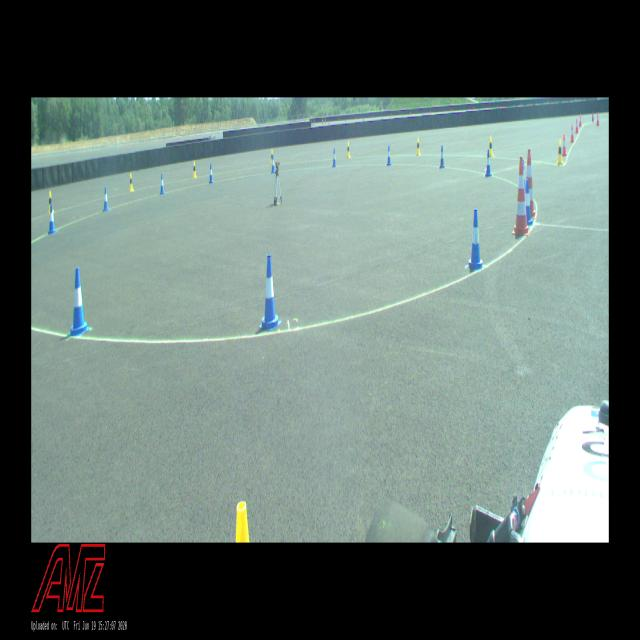blue_cone: (259, 255, 282, 331), (68, 267, 90, 336), (466, 209, 484, 271), (525, 180, 533, 226), (48, 204, 57, 233), (102, 186, 110, 212), (485, 150, 492, 177), (159, 173, 165, 194), (208, 164, 214, 184), (440, 145, 444, 168), (332, 148, 337, 166), (387, 144, 391, 166), (271, 154, 275, 173)
large_orange_cone: (512, 156, 531, 236), (526, 149, 536, 218)
orange_cone: (562, 133, 567, 156), (570, 124, 575, 142), (575, 118, 578, 134), (579, 114, 582, 126), (597, 112, 599, 126)
yellow_cone: (235, 501, 250, 542), (556, 139, 563, 166), (48, 190, 54, 213), (489, 136, 494, 157), (416, 138, 421, 155), (346, 141, 351, 158), (192, 161, 197, 178), (130, 172, 134, 192), (270, 149, 273, 165)
